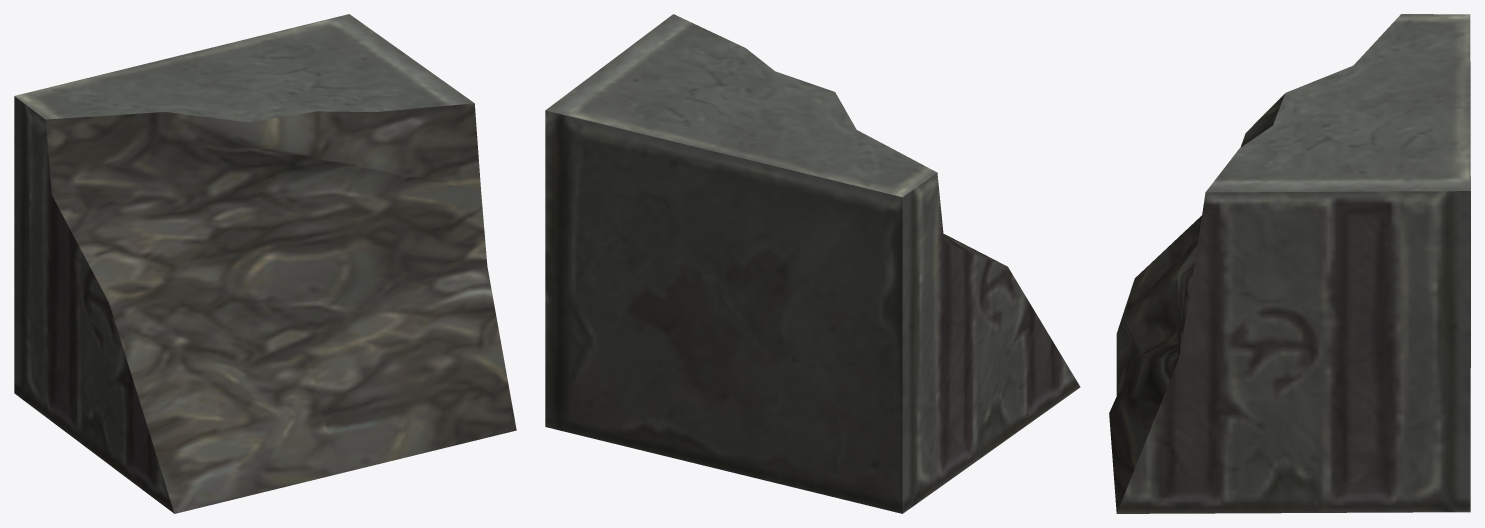
Rendered from F_shizhu005.fbx.
3 renders of one model, left to right at view 1: azimuth 30°, elevation 25°; view 2: azimuth 150°, elevation 25°; view 3: azimuth 270°, elevation 25°, orthographic. The views are drawn at different scales.
Visible parts, largest first — view 1: F_shizhu005; view 2: F_shizhu005; view 3: F_shizhu005.
Boxes of the visible parts, x1,y1,x2,y2 form: F_shizhu005: [14, 14, 516, 513]; F_shizhu005: [545, 14, 1080, 513]; F_shizhu005: [1109, 14, 1470, 513].
Size of the model in its own units: 72.83 by 60.48 by 61.75.
